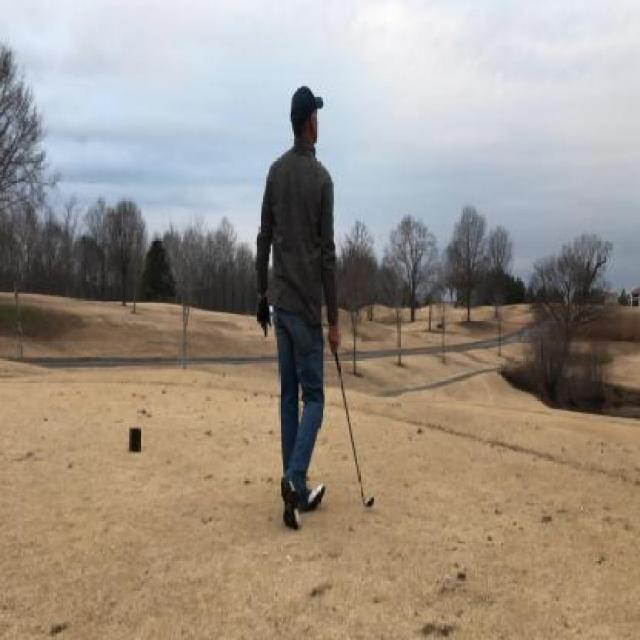club head: (361, 492, 374, 508)
